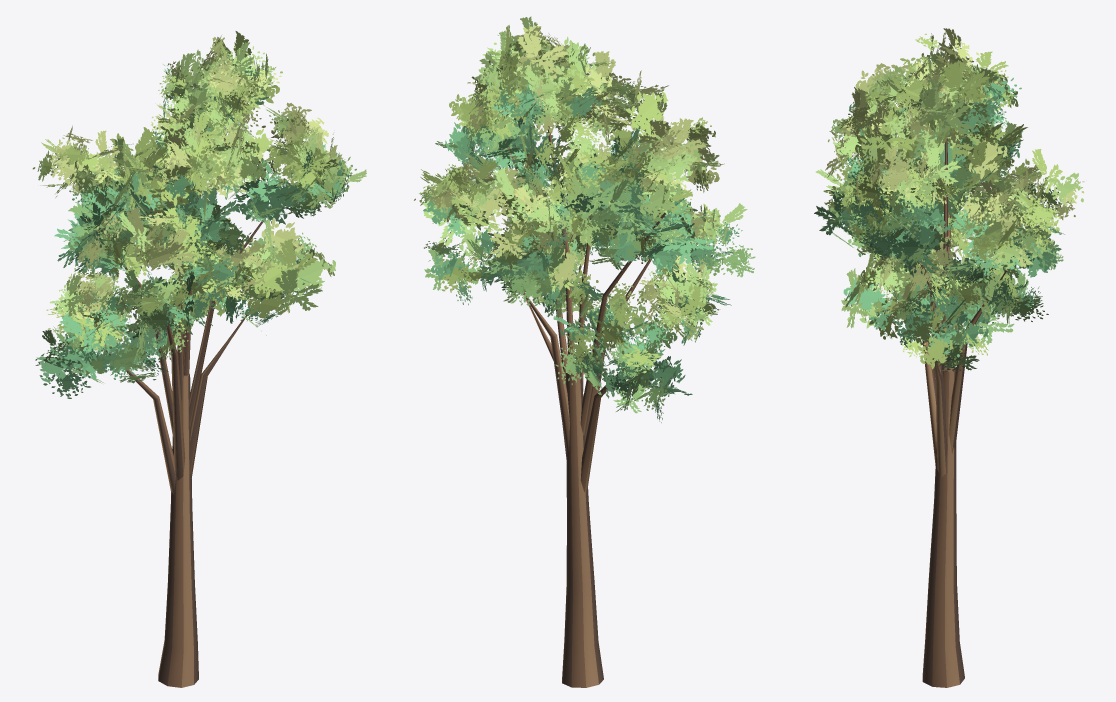
File: Tree_03_Tall_Clouds.glb
3 renders of one model, left to right at view 1: azimuth 30°, elevation 25°; view 2: azimuth 150°, elevation 25°; view 3: azimuth 270°, elevation 25°, orthographic. The views are drawn at different scales.
Visible parts, largest first — view 1: Tree_03_Tall_Clouds; view 2: Tree_03_Tall_Clouds; view 3: Tree_03_Tall_Clouds.
Boxes of the visible parts, box(x1,y1,x2,y2) form: Tree_03_Tall_Clouds: box(32, 31, 366, 687); Tree_03_Tall_Clouds: box(414, 16, 755, 687); Tree_03_Tall_Clouds: box(814, 28, 1084, 687).
Bounding box in the file's own units: 4.46 × 8.78 × 3.57.
Materials: 9 (6 with a texture image).
